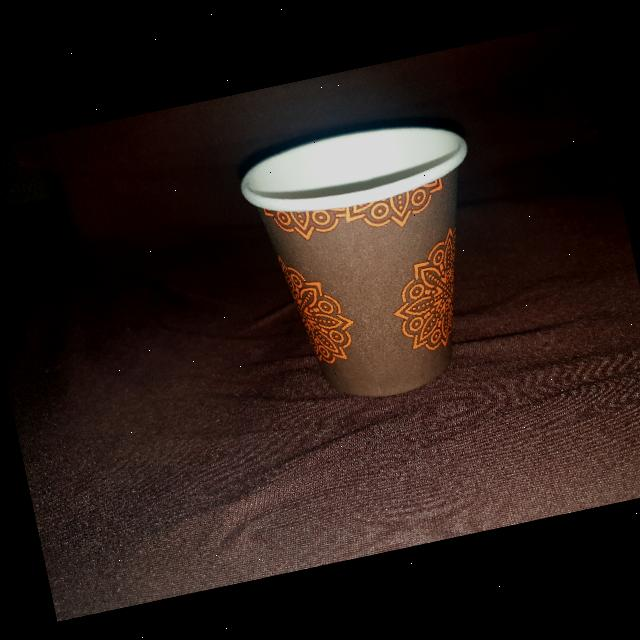trash: (228, 98, 526, 424)
